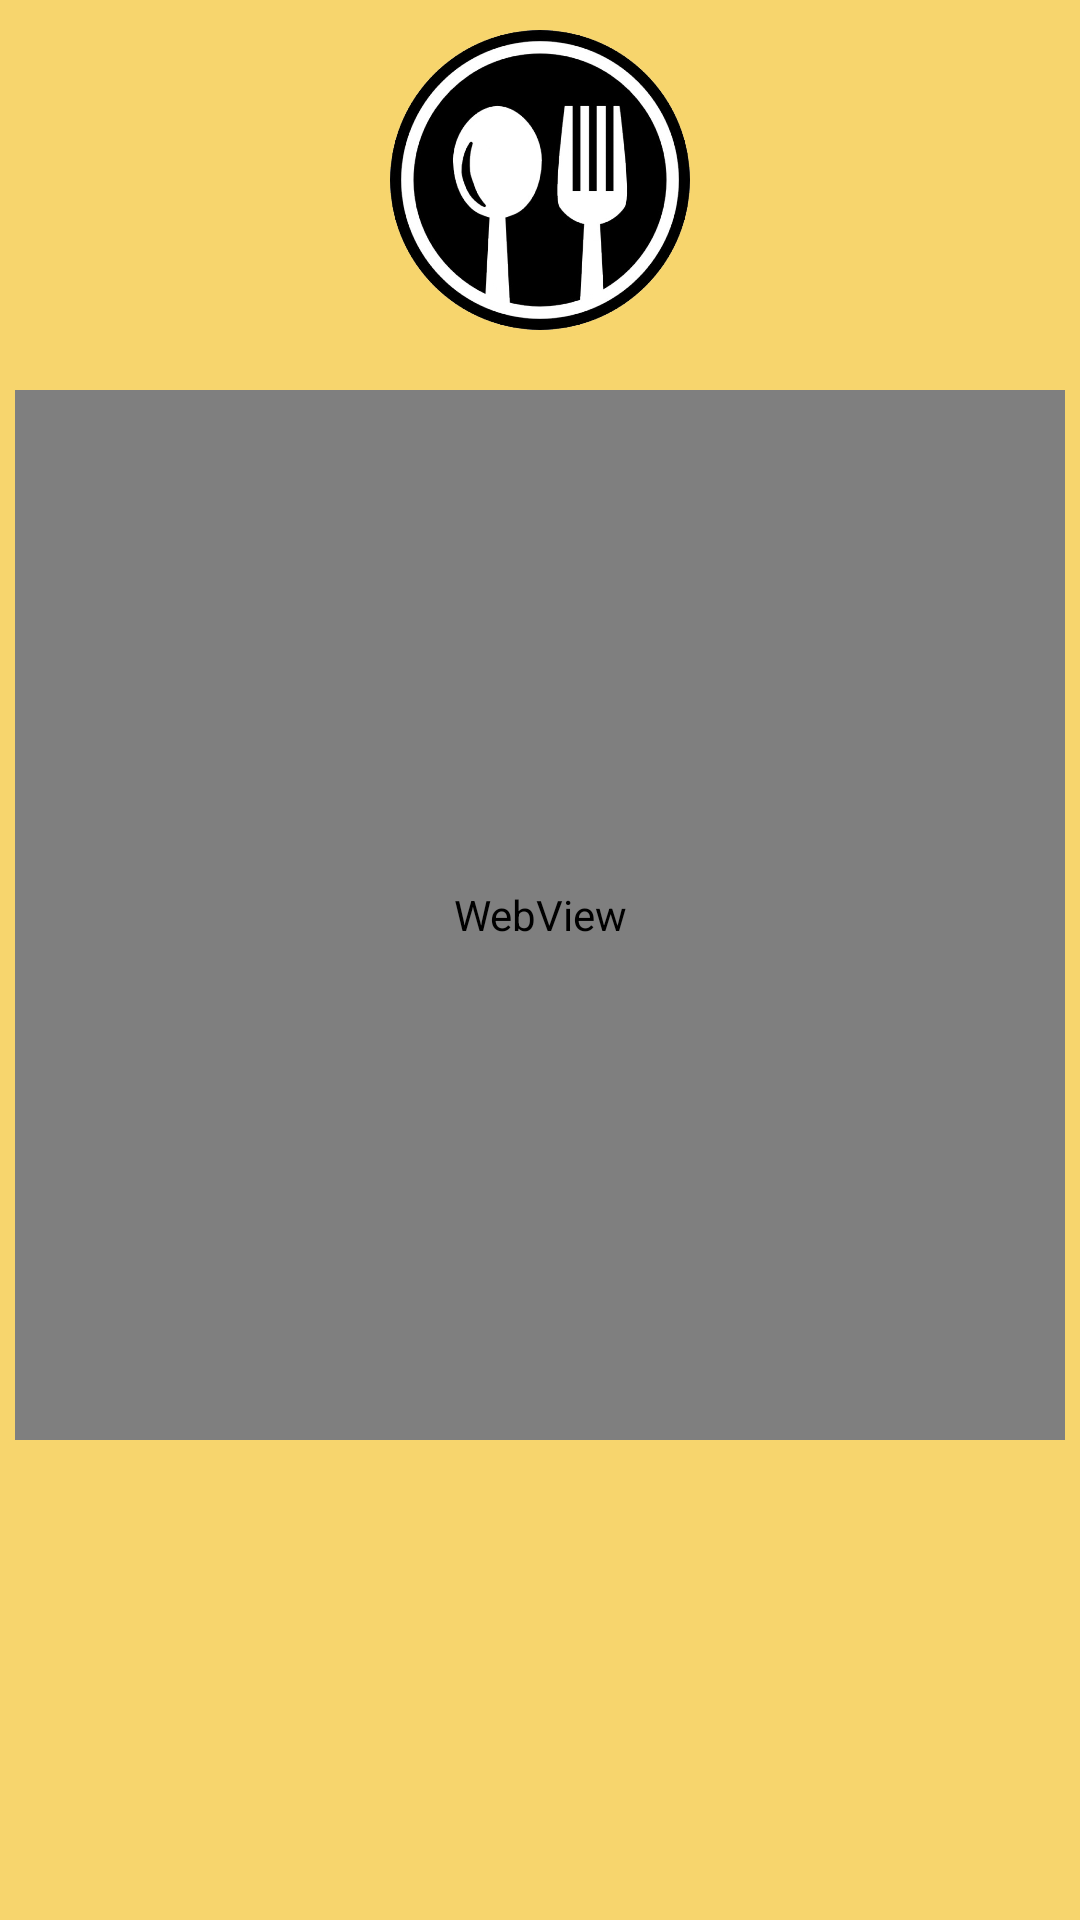

Screen size 1080px×1920px. Icon name, then its center in pixels as (x,y):
food: (540,180)
